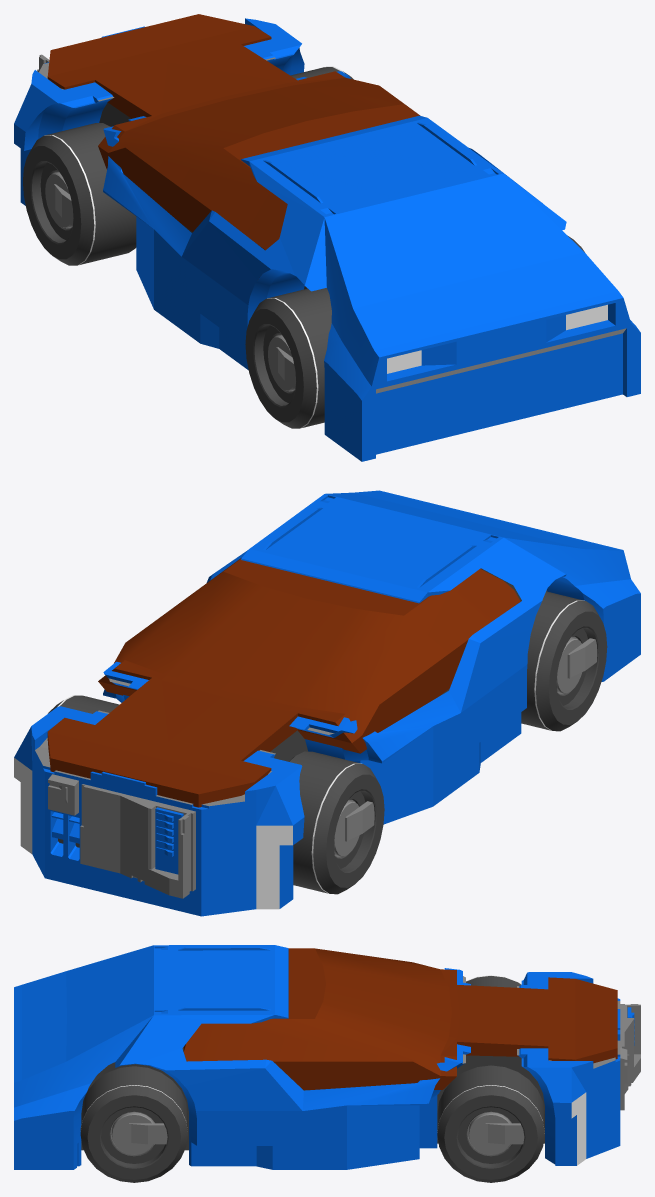
The model's file is Car.fbx.
3 views of the same model, one above another, from view 1: azimuth 30°, elevation 25°; view 2: azimuth 150°, elevation 25°; view 3: azimuth 270°, elevation 25° (orthographic). The views are drawn at different scales.
Parts seen in each view (by area): view 1: Car_Base, Glass_Red, Tire; view 2: Car_Base, Glass_Red, Tire; view 3: Car_Base, Glass_Red, Tire.
Part boxes in pixels (<box>): Car_Base: <box>14,18,640,461</box>; Glass_Red: <box>47,14,420,250</box>; Tire: <box>23,66,584,428</box>; Car_Base: <box>14,490,640,916</box>; Glass_Red: <box>47,558,520,807</box>; Tire: <box>48,591,607,894</box>; Car_Base: <box>14,945,640,1169</box>; Glass_Red: <box>183,948,617,1089</box>; Tire: <box>80,975,544,1182</box>.
Size of the model in its own units: 249 by 150 by 564.
